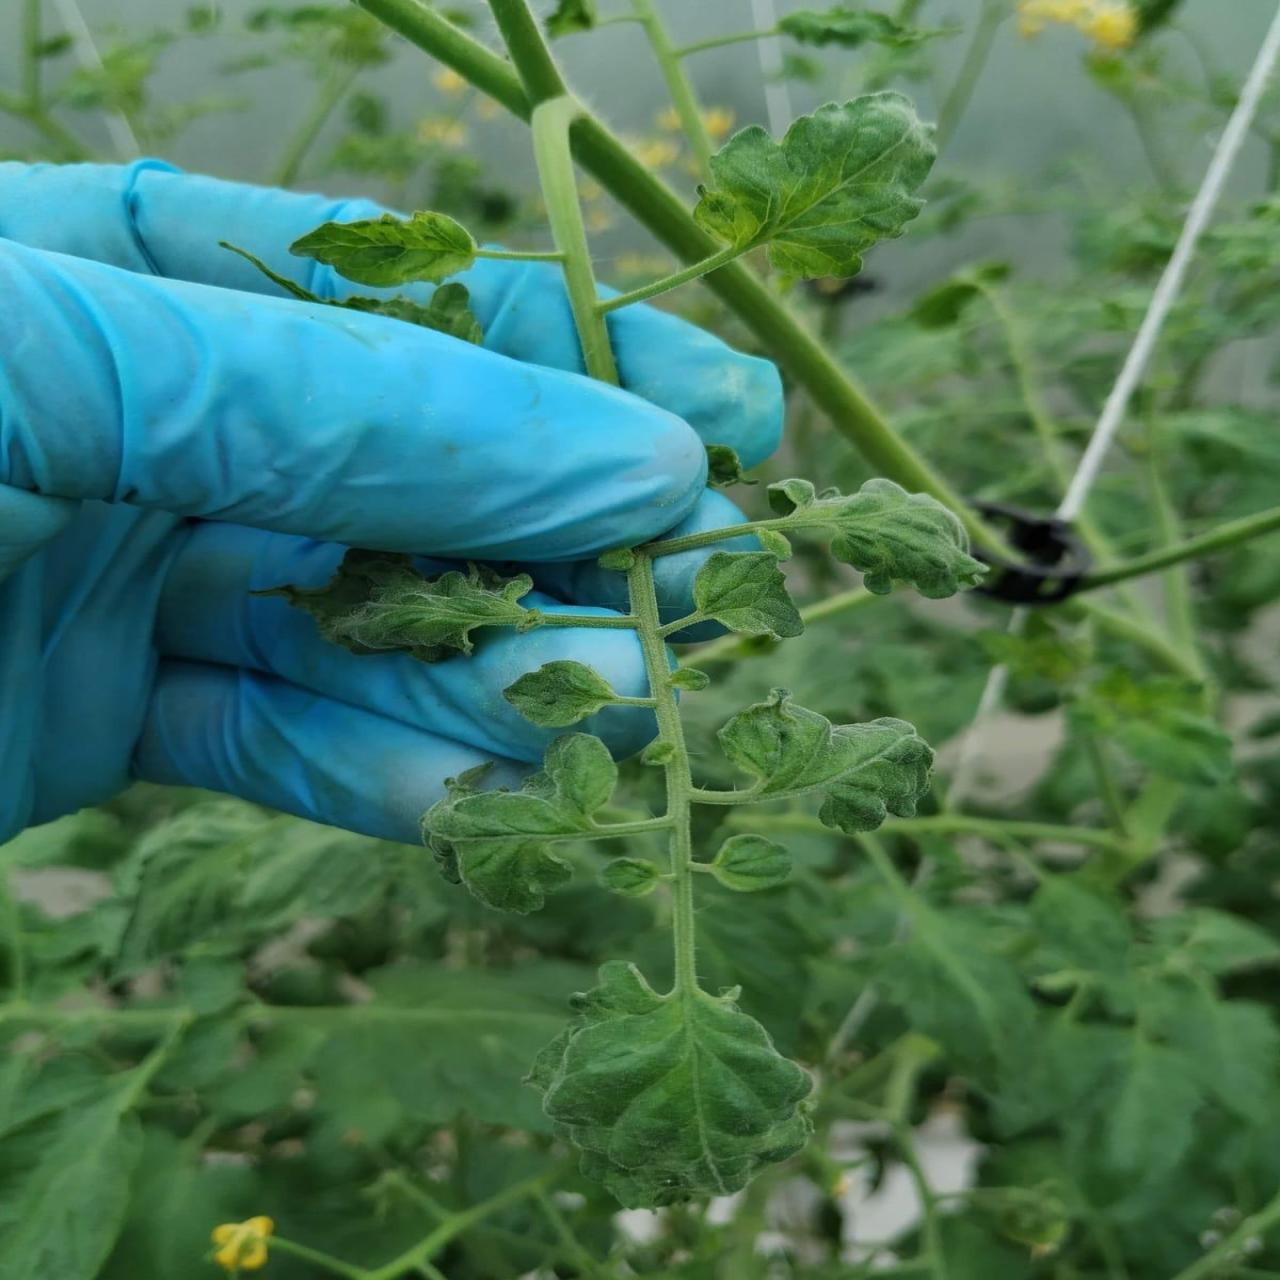T_L_H: (602, 90, 938, 308), (529, 964, 812, 1211), (421, 735, 617, 915), (719, 690, 934, 835)
